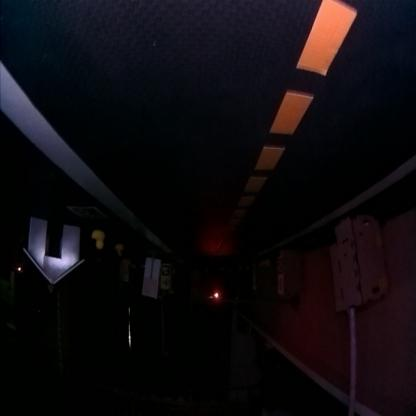Duckie: (93, 232, 105, 250), (115, 246, 124, 256)
Intersection sign: (162, 278, 171, 290)
QR code: (67, 207, 107, 220)
